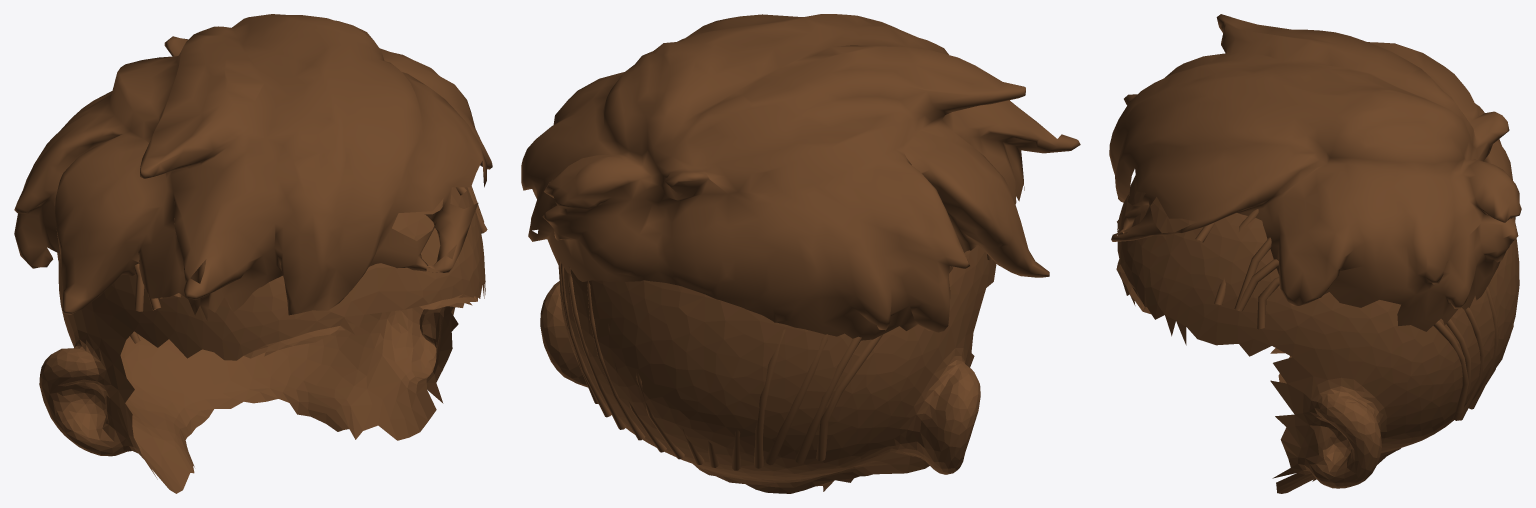
File: short-fringe.glb
3 renders of one model, left to right at view 1: azimuth 30°, elevation 25°; view 2: azimuth 150°, elevation 25°; view 3: azimuth 270°, elevation 25°, orthographic. The views are drawn at different scales.
Visible parts, largest first — view 1: Hair, HairScalp, HairPulledRootStrands; view 2: Hair, HairScalp, HairPulledRootStrands; view 3: Hair, HairScalp, HairPulledRootStrands.
Boxes of the visible parts, x1,y1,x2,y2 form: Hair: [14, 14, 492, 320]; HairScalp: [39, 187, 485, 493]; HairPulledRootStrands: [57, 186, 487, 343]; Hair: [521, 14, 1080, 340]; HairScalp: [540, 245, 996, 493]; HairPulledRootStrands: [558, 254, 992, 470]; Hair: [1109, 14, 1521, 331]; HairScalp: [1116, 175, 1519, 493]; HairPulledRootStrands: [1195, 209, 1513, 420].
Bounding box in the file's own units: 0.4961 × 0.4323 × 0.4244.
